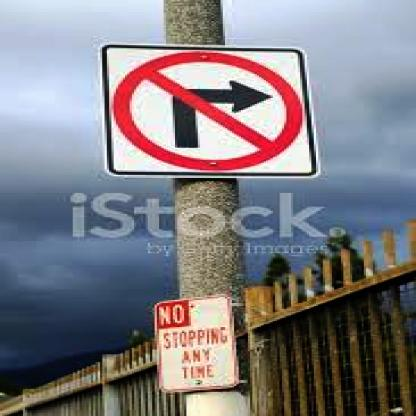No right turn: (98, 46, 322, 172)
